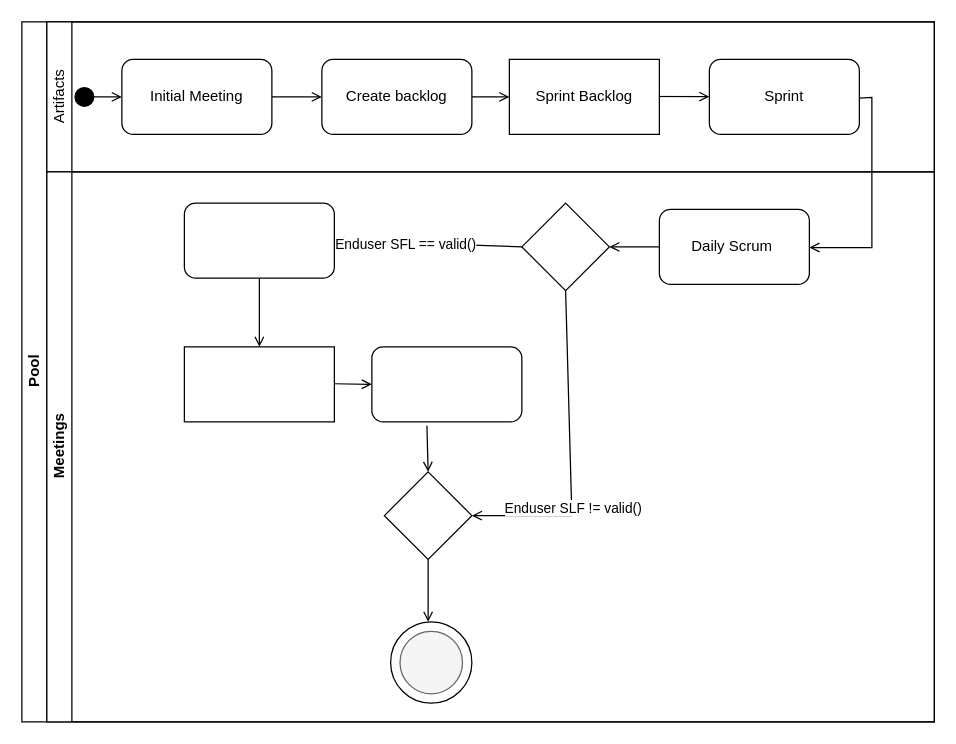
Image size: 956x744. Some labels were removed from this diagram. The centre of each missing label's shape, as x and y in pixels:
"create official SLF report" goes at (258,240).
"SLF report" goes at (258,384).
"submit report" goes at (446,384).
